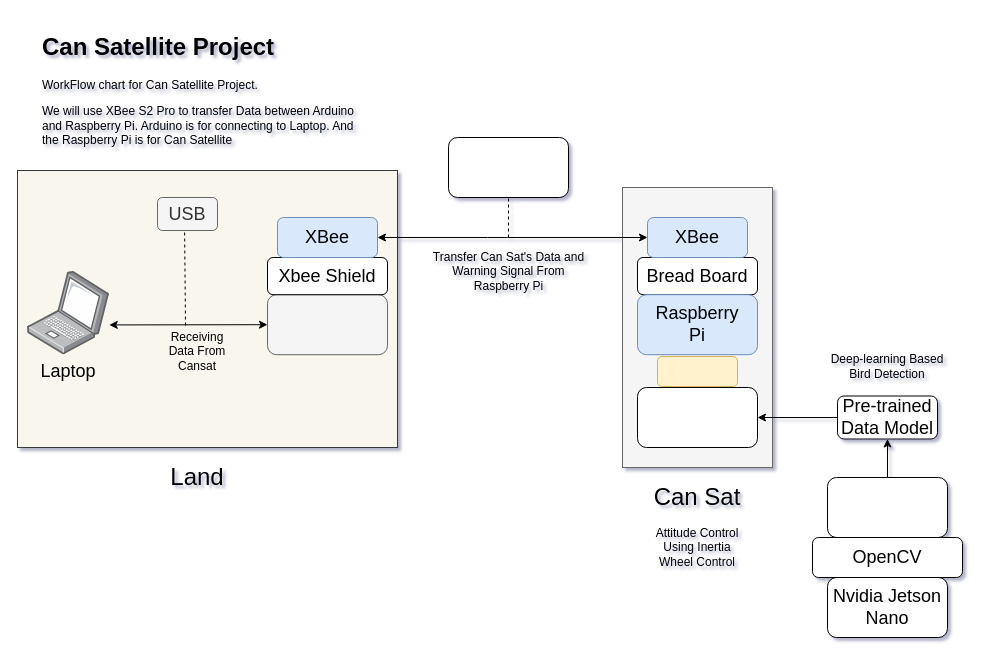
Some shapes in this 986 by 661 pixel diagram are drawn without their labels. Here are the shapes that lost their labels. From the top down, the centre of each, then its label:
At (508,167): "Wireless ISM 2.4 GHz".
At (327,324): "Arduino".
At (697,371): "Inertia Wheel".
At (697,417): "Camera".
At (887,507): "TensorFlow".
